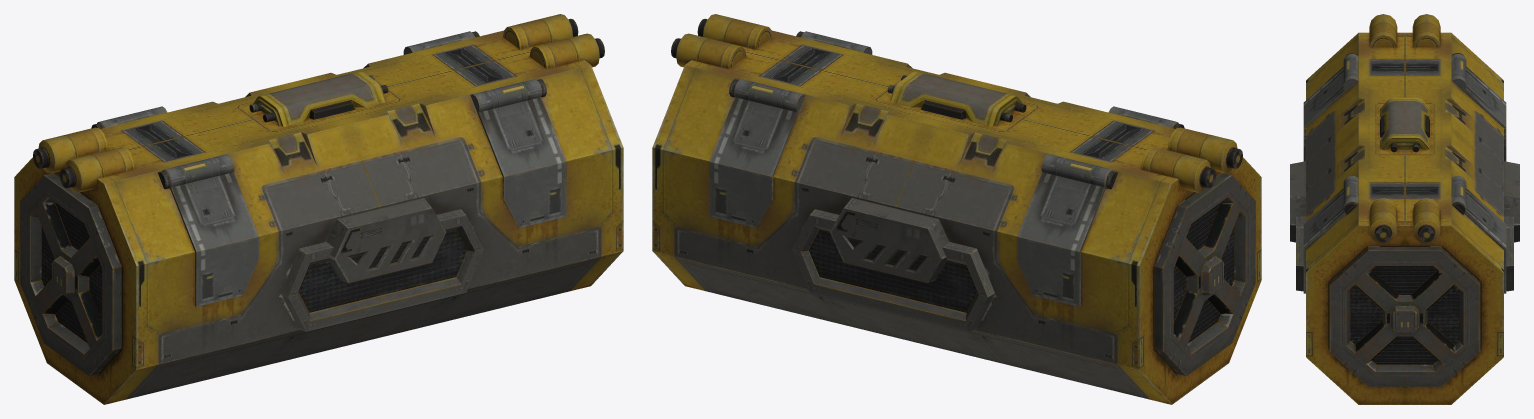
File: bomb_mega.glb
The picture shows the model from 3 angles, left to right: view 1: azimuth 30°, elevation 25°; view 2: azimuth 150°, elevation 25°; view 3: azimuth 270°, elevation 25°; orthographic projection. The views are drawn at different scales.
Parts seen in each view (by area): view 1: con_crate_crystal_closed.smd; view 2: con_crate_crystal_closed.smd; view 3: con_crate_crystal_closed.smd.
Part boxes in pixels (left/top/right/bottom): con_crate_crystal_closed.smd: left=14, top=14, right=623, bottom=404; con_crate_crystal_closed.smd: left=652, top=14, right=1261, bottom=404; con_crate_crystal_closed.smd: left=1290, top=14, right=1519, bottom=404.
Bounding box in the file's own units: 2.44 × 1.03 × 1.12.
Materials: 1 (1 with a texture image).
